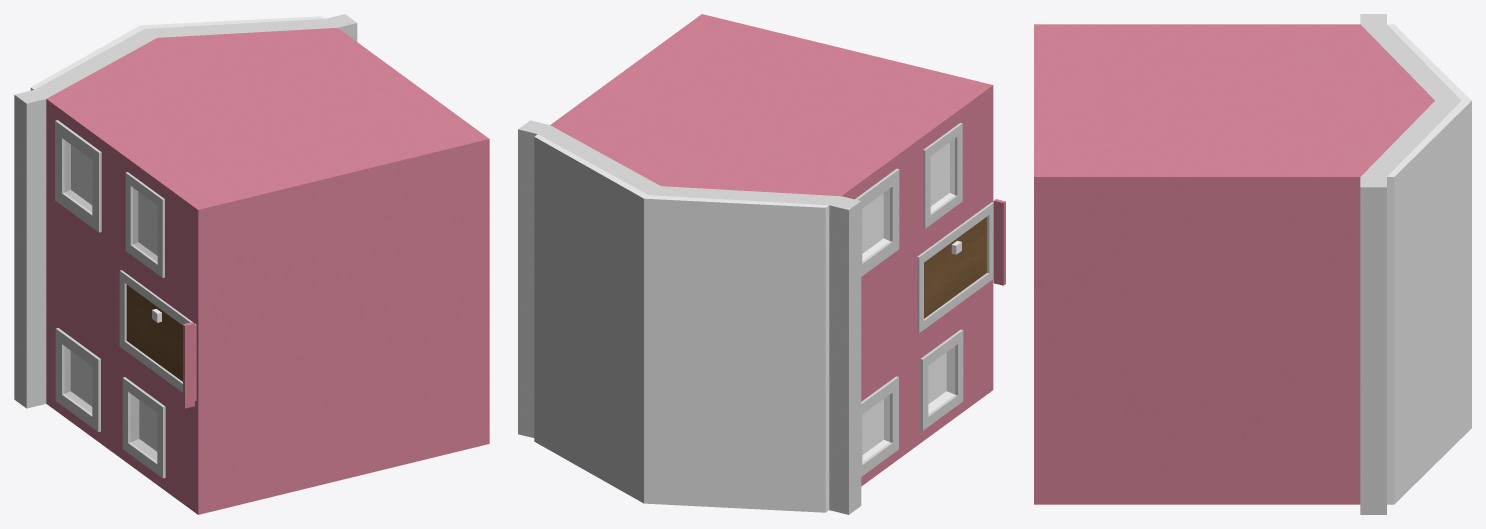
File: venice_murano_1.fbx
The picture shows the model from 3 angles, left to right: view 1: azimuth 30°, elevation 25°; view 2: azimuth 150°, elevation 25°; view 3: azimuth 270°, elevation 25°; orthographic projection. The views are drawn at different scales.
Visible parts, largest first — view 1: Cube.345; view 2: Cube.345; view 3: Cube.345.
Part boxes in pixels (x1=…): Cube.345: x1=14, y1=14, x2=489, y2=514; Cube.345: x1=518, y1=14, x2=1005, y2=514; Cube.345: x1=1034, y1=14, x2=1471, y2=514.
Size of the model in its own units: 897 by 790 by 956.
